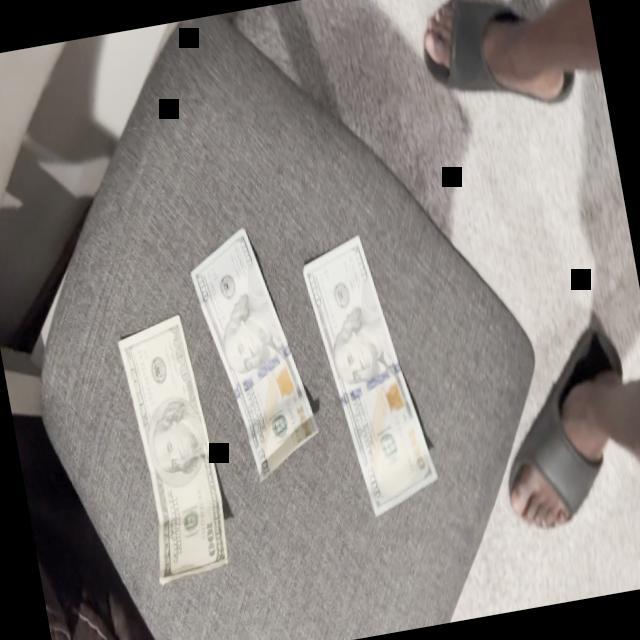hundred: (298, 227, 438, 521), (185, 219, 320, 476), (113, 312, 236, 590)
